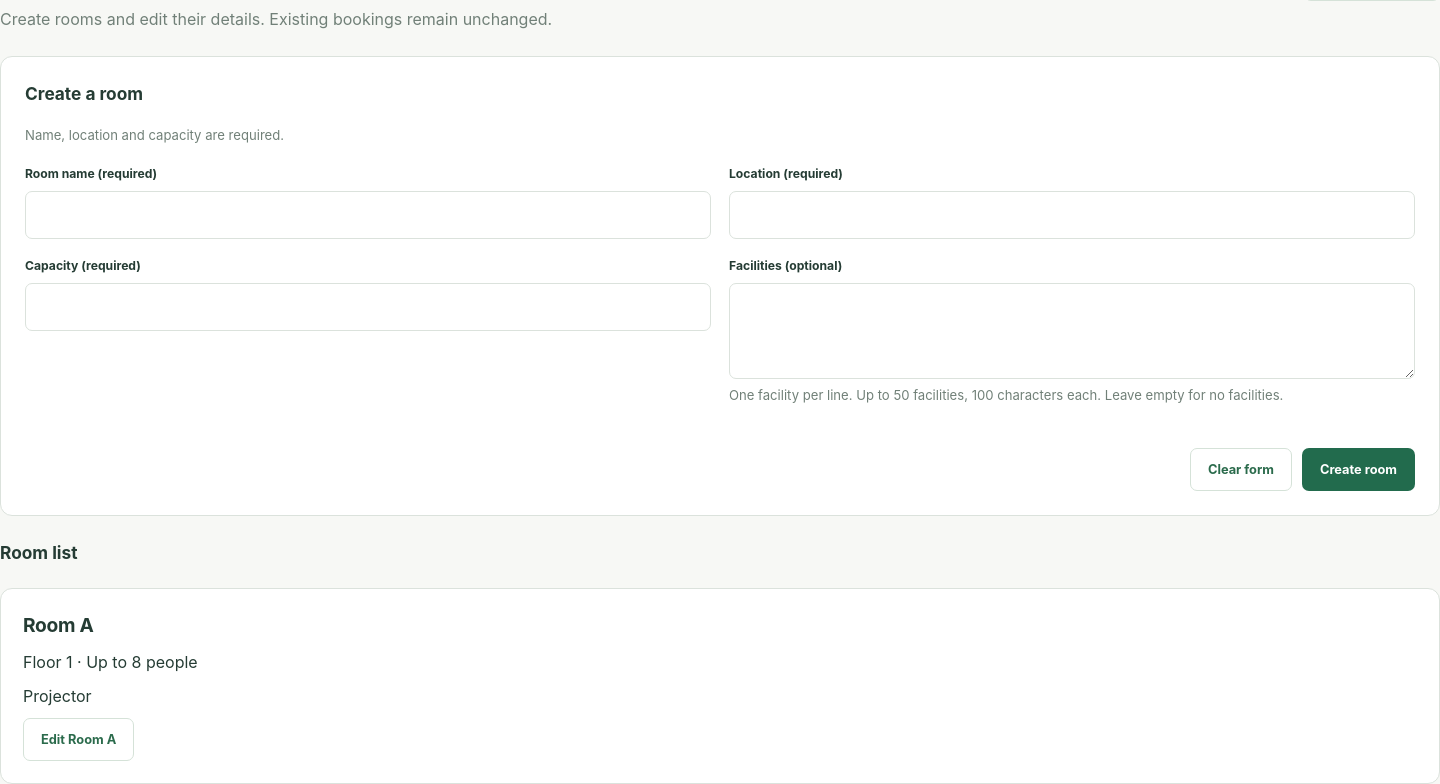
Test: TC13 / TC14 admin room UI › preserves edits and displays server error 400
The image size is (1440, 784).
(page scrolled)
Click the button "Edit Room A". click: (79, 739)
box: [23,718,134,761]
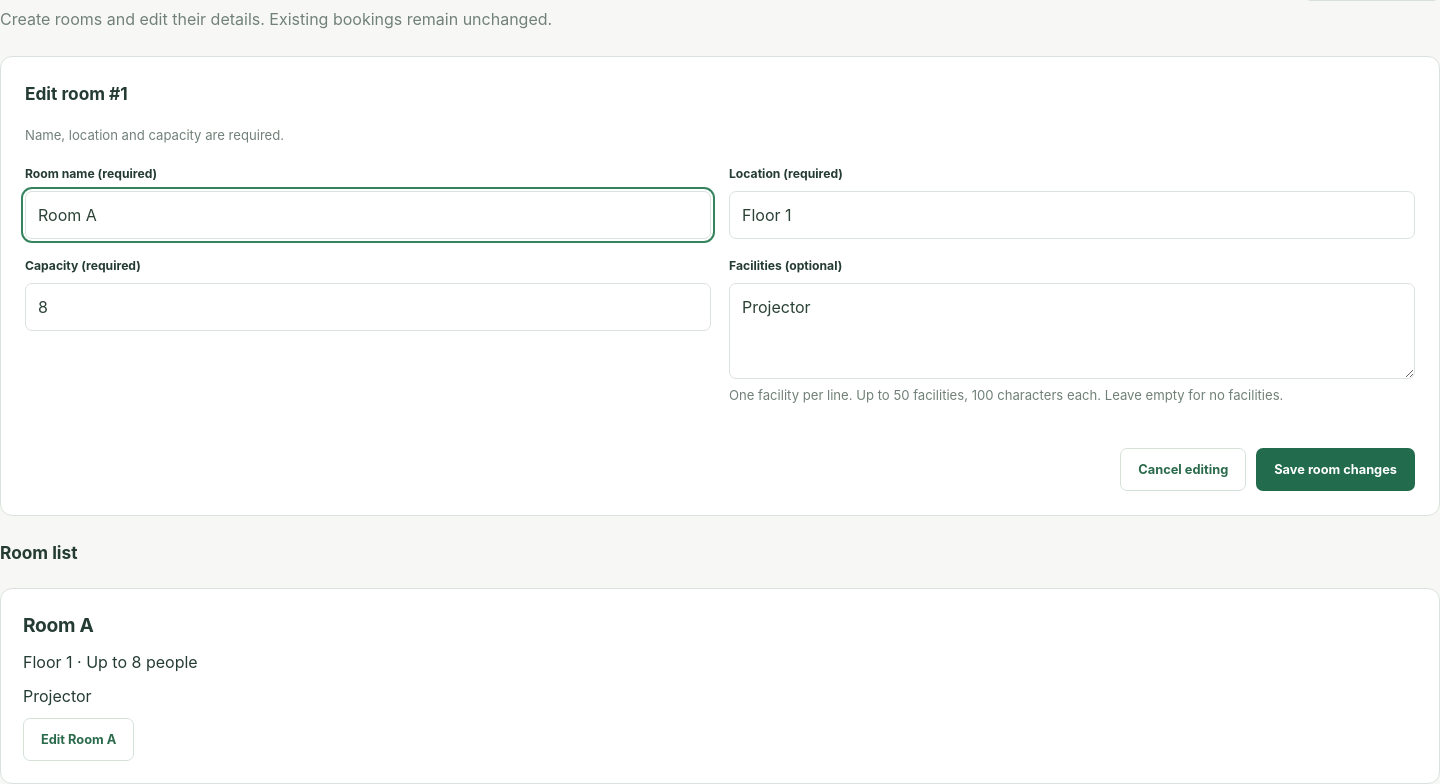
Click the button "Save room changes". click: (1336, 469)
box: [1256,448,1415,491]
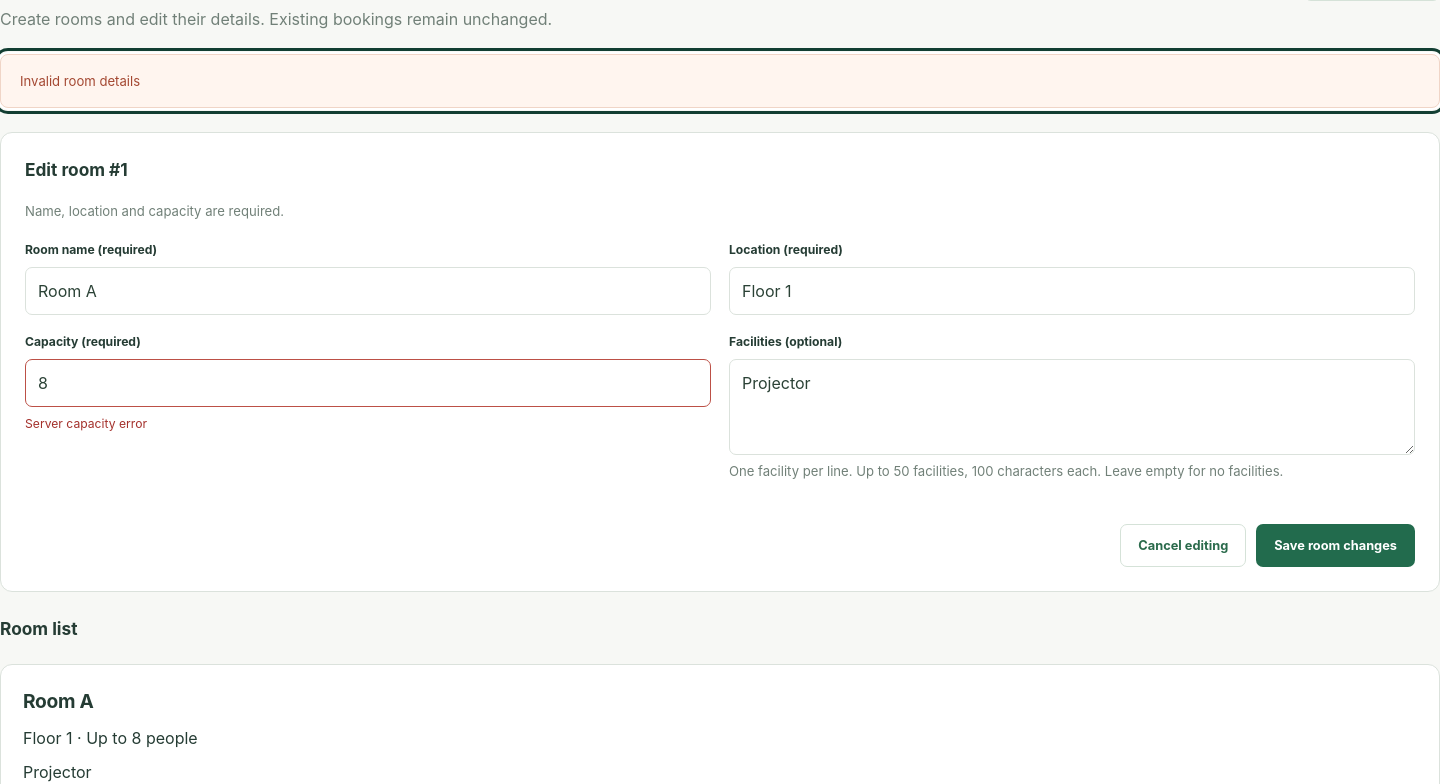
Check: the field labelled "Room name (required)" holds "Room A", box [25,267,711,315]
Check: the message "Invalid room details" is shown, box [0,54,1439,108]
Check: the text "Server capacity error" is shown, box [25,416,147,432]
